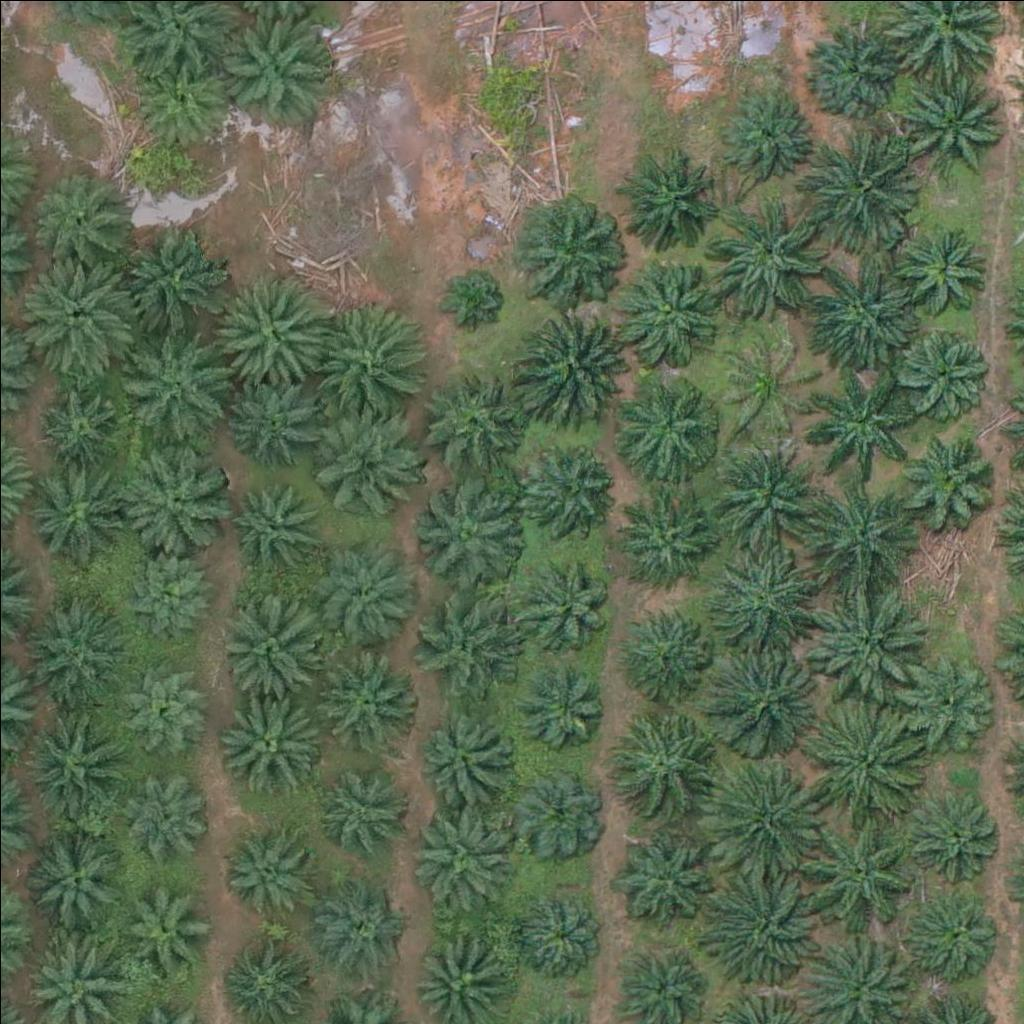Kelapa_Sawit: (803, 129, 916, 243), (124, 339, 237, 452), (111, 222, 224, 335), (217, 275, 330, 388), (312, 534, 425, 647), (312, 415, 425, 528), (320, 301, 433, 414), (217, 6, 330, 119), (415, 474, 528, 587), (516, 305, 629, 418), (802, 256, 915, 369), (812, 582, 925, 695), (703, 761, 816, 874), (703, 872, 816, 985), (804, 701, 917, 814), (122, 440, 234, 554), (312, 640, 424, 754), (609, 254, 721, 368), (708, 543, 820, 657), (707, 430, 819, 544), (18, 708, 130, 822), (403, 799, 515, 913), (700, 646, 812, 760), (17, 591, 129, 704), (20, 451, 132, 564), (20, 263, 132, 376), (209, 588, 321, 701), (409, 591, 521, 704), (515, 189, 627, 302), (711, 200, 823, 313), (806, 369, 918, 482), (802, 484, 914, 597), (890, 76, 1002, 189), (214, 687, 326, 800), (606, 696, 718, 809), (800, 816, 912, 929), (36, 165, 136, 266), (223, 368, 323, 469), (219, 481, 319, 582), (130, 48, 230, 149), (419, 367, 519, 468), (522, 435, 622, 536), (713, 339, 813, 440), (806, 21, 906, 122), (896, 321, 996, 422), (892, 225, 992, 326), (31, 829, 131, 930), (221, 821, 321, 922), (309, 752, 409, 853), (509, 760, 609, 861), (617, 820, 717, 921), (903, 894, 1003, 995), (620, 149, 720, 249), (616, 478, 716, 578), (623, 377, 723, 477), (717, 76, 817, 176), (899, 429, 999, 529), (311, 863, 411, 963), (413, 706, 513, 806), (508, 882, 608, 982), (896, 652, 996, 752), (900, 793, 1000, 893), (40, 380, 128, 468), (123, 550, 211, 638), (523, 561, 611, 649), (626, 607, 714, 695), (120, 885, 208, 973), (115, 765, 203, 853), (520, 664, 608, 752), (121, 660, 208, 748), (434, 264, 509, 339)
